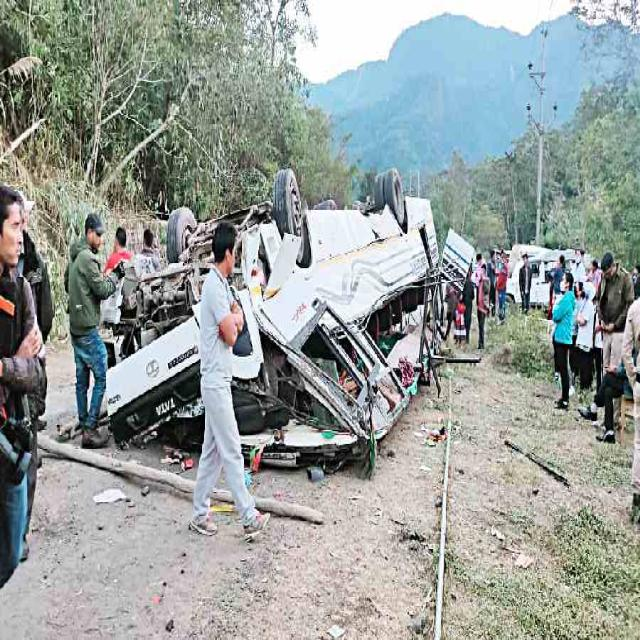accident: (101, 169, 471, 466)
